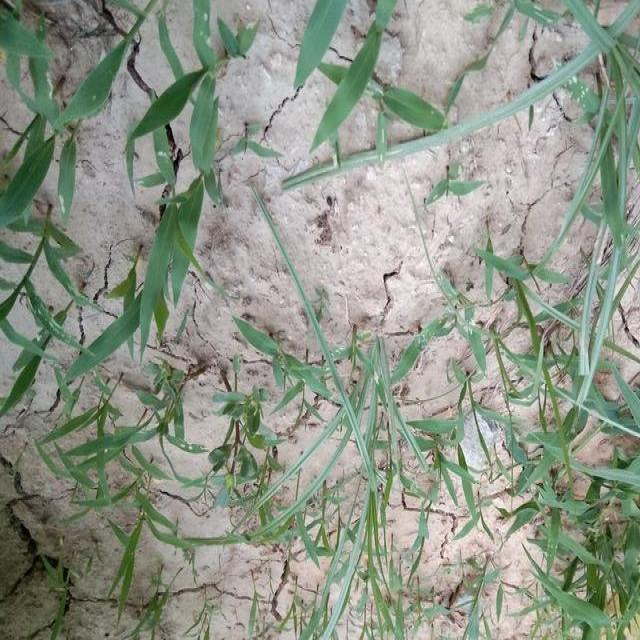weed: (433, 250, 640, 640), (30, 0, 439, 166), (14, 213, 204, 558), (262, 191, 402, 640), (538, 3, 640, 267)
